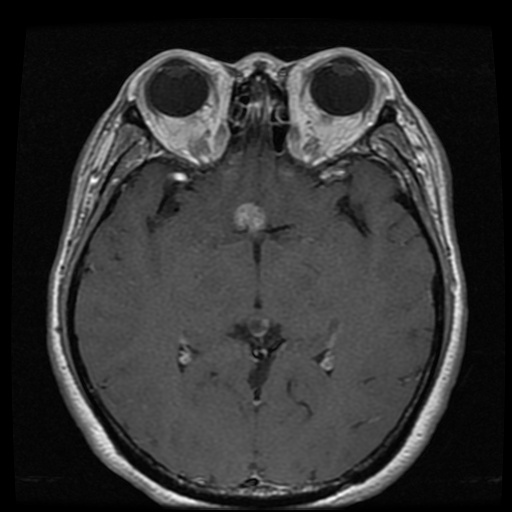pituitary: (235, 201, 267, 234)
